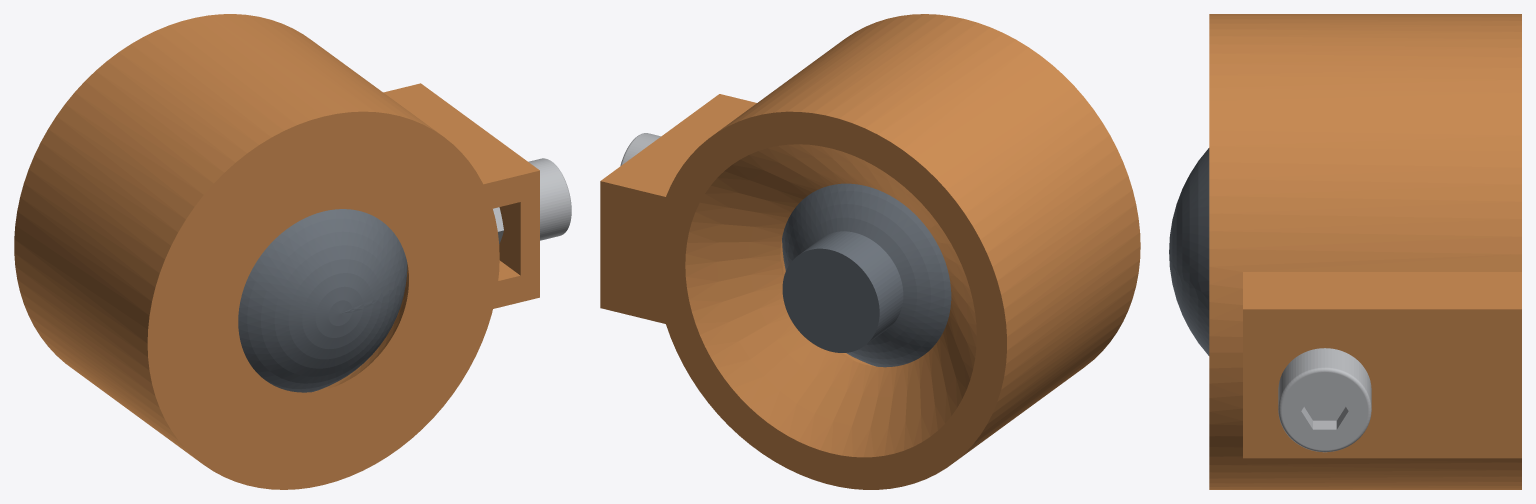
3 views of the same model, side by side, from view 1: azimuth 30°, elevation 25°; view 2: azimuth 150°, elevation 25°; view 3: azimuth 270°, elevation 25° (orthographic). The views are drawn at different scales.
Parts seen in each view (by area): view 1: douille, boule, vis; view 2: douille, boule; view 3: douille, vis, boule.
Boxes of the visible parts, box(x1,y1,x2,y2) form: douille: box(14, 14, 539, 489); boule: box(238, 209, 407, 392); vis: box(528, 158, 571, 240); douille: box(600, 14, 1140, 489); boule: box(782, 183, 951, 367); douille: box(1209, 14, 1521, 489); vis: box(1278, 348, 1371, 452); boule: box(1169, 148, 1209, 355).
Size of the model in its own units: 37.45 by 29 by 21.5.
